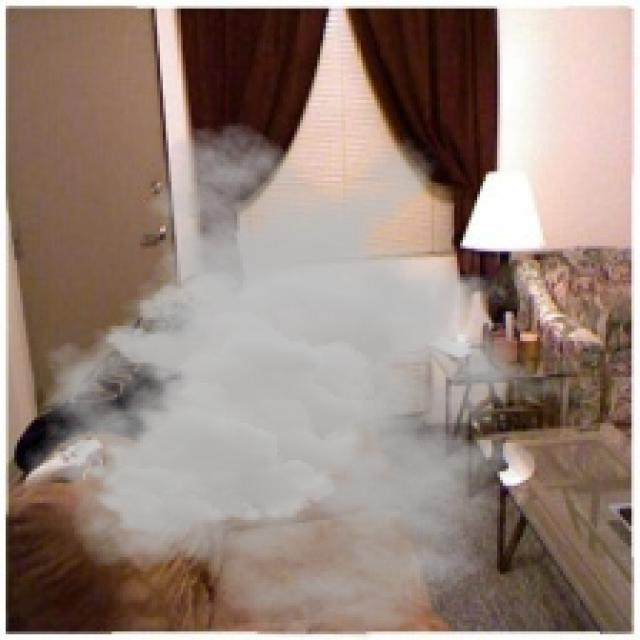Smoke: (22, 120, 592, 637)
